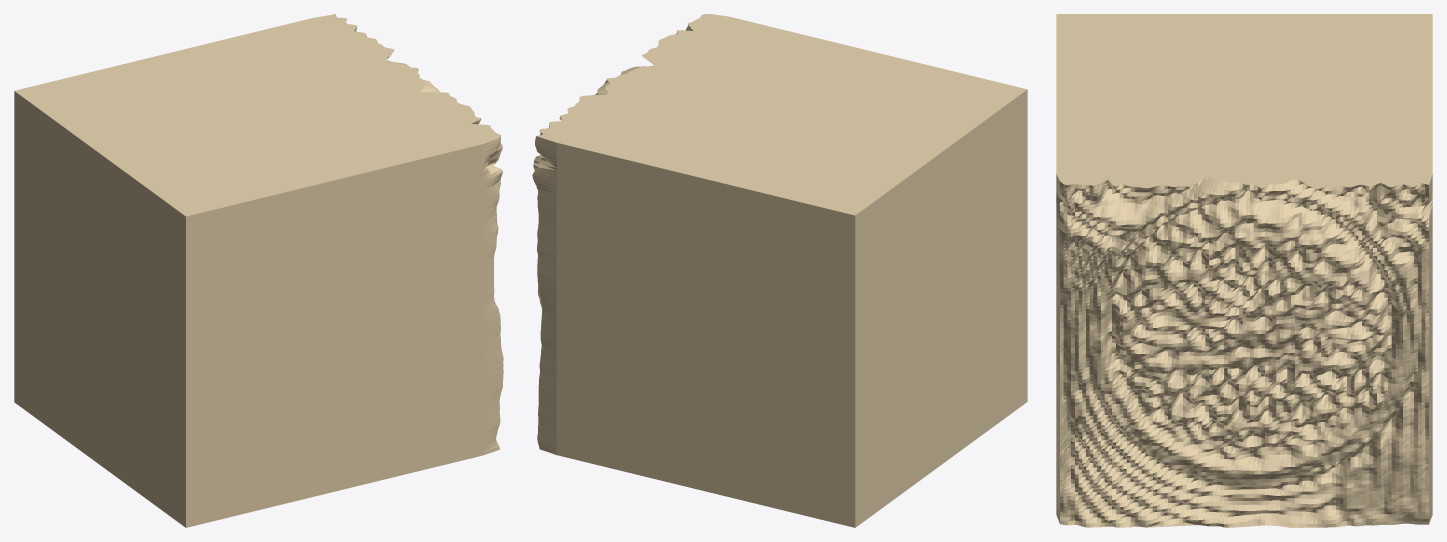
File: bottom9.png - copia.obj
3 renders of one model, left to right at view 1: azimuth 30°, elevation 25°; view 2: azimuth 150°, elevation 25°; view 3: azimuth 270°, elevation 25°, orthographic. The views are drawn at different scales.
Parts seen in each view (by area): view 1: Cube; view 2: Cube; view 3: Cube.
Boxes of the visible parts, x1,y1,x2,y2 form: Cube: (14, 14, 503, 527); Cube: (532, 14, 1027, 527); Cube: (1056, 14, 1432, 527).
Size of the model in its own units: 1.1 by 1 by 1.
